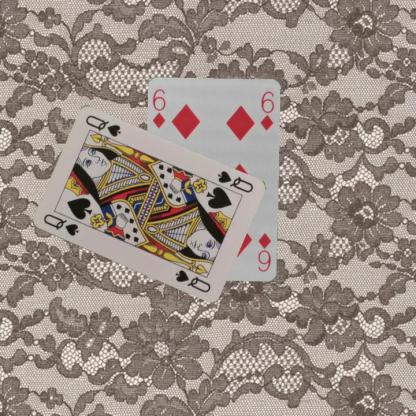6d: (255, 230, 273, 274), (150, 86, 167, 130)
Qs: (40, 212, 80, 238), (214, 168, 254, 194)
